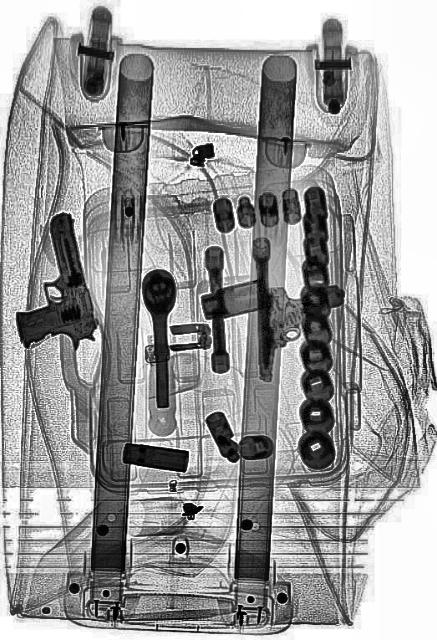Gun: (1, 208, 100, 368), (253, 281, 347, 381)
